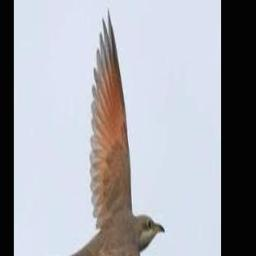Cuckoo: (31, 10, 165, 256)
